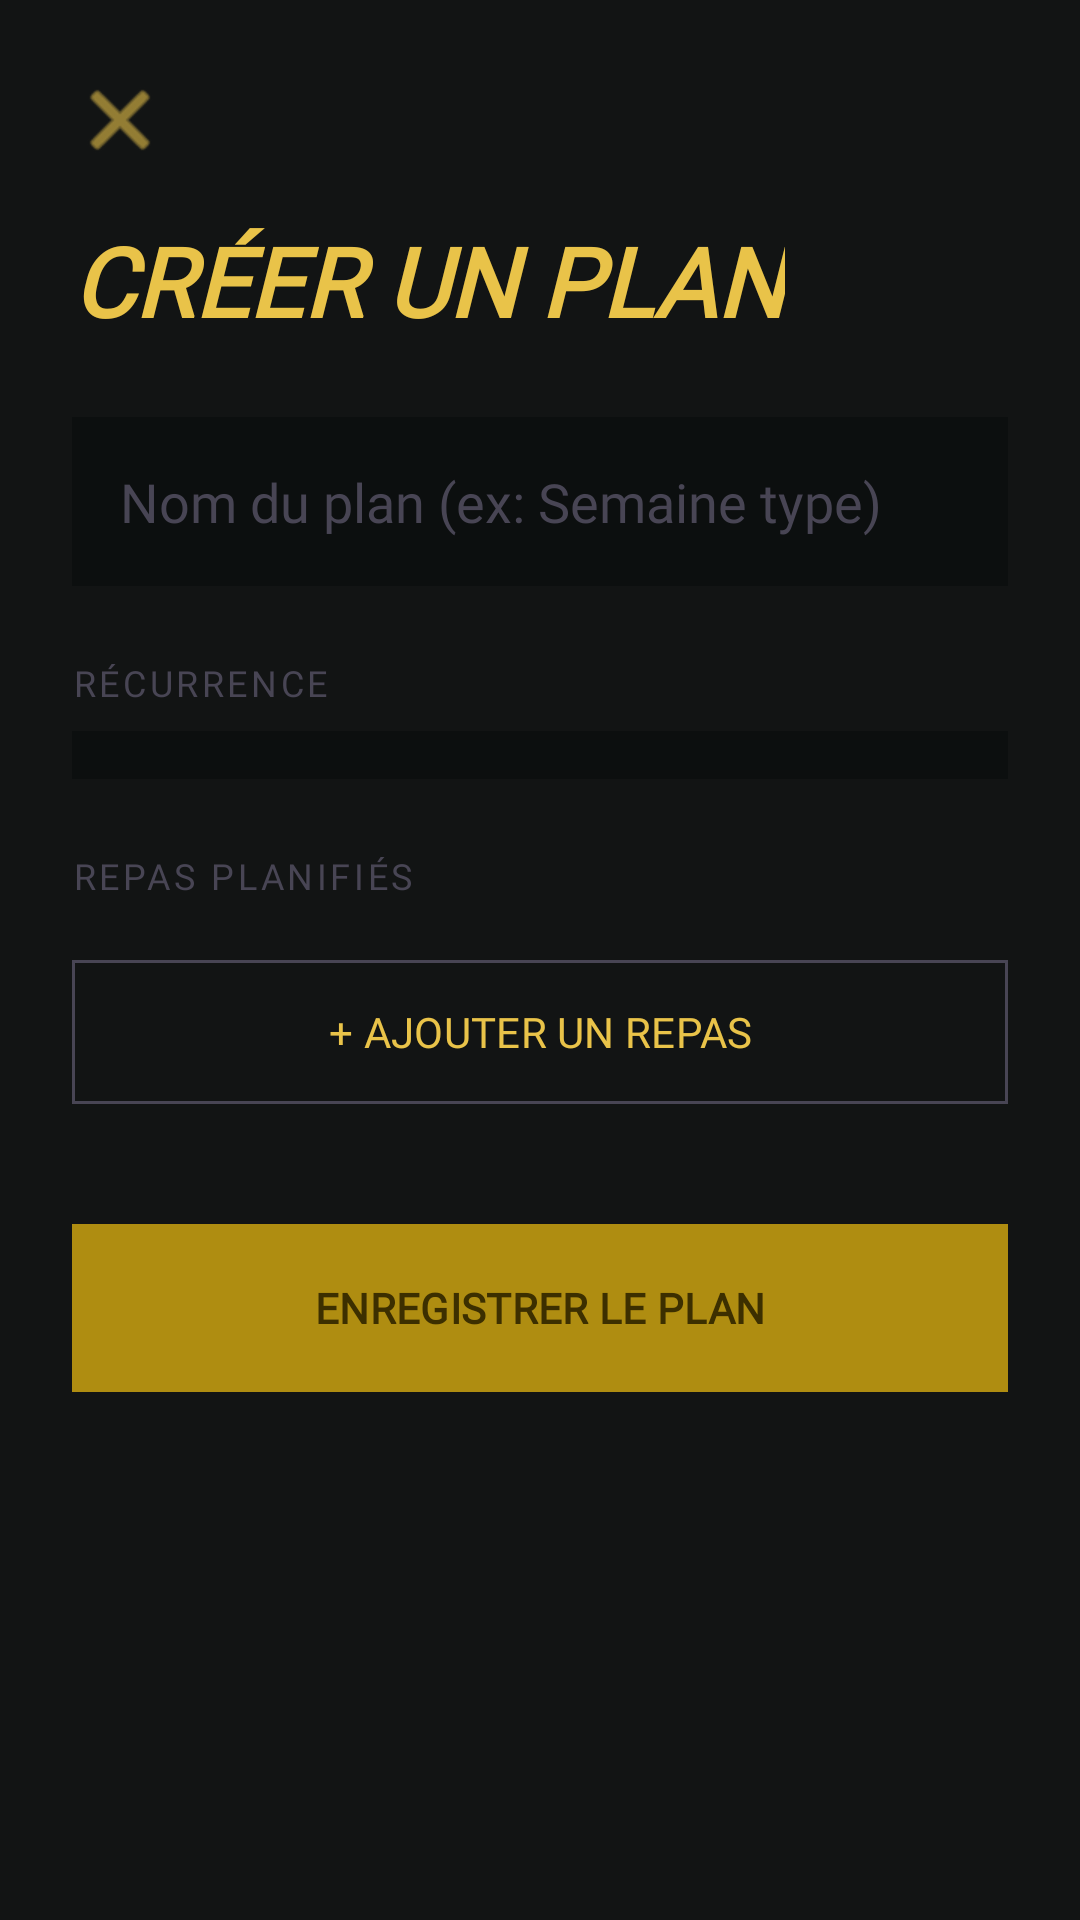

Icons on this 1080x1920 Android screen, each with its box as (x1, y1, x2, y2):
Retour: (90, 90, 150, 150)
